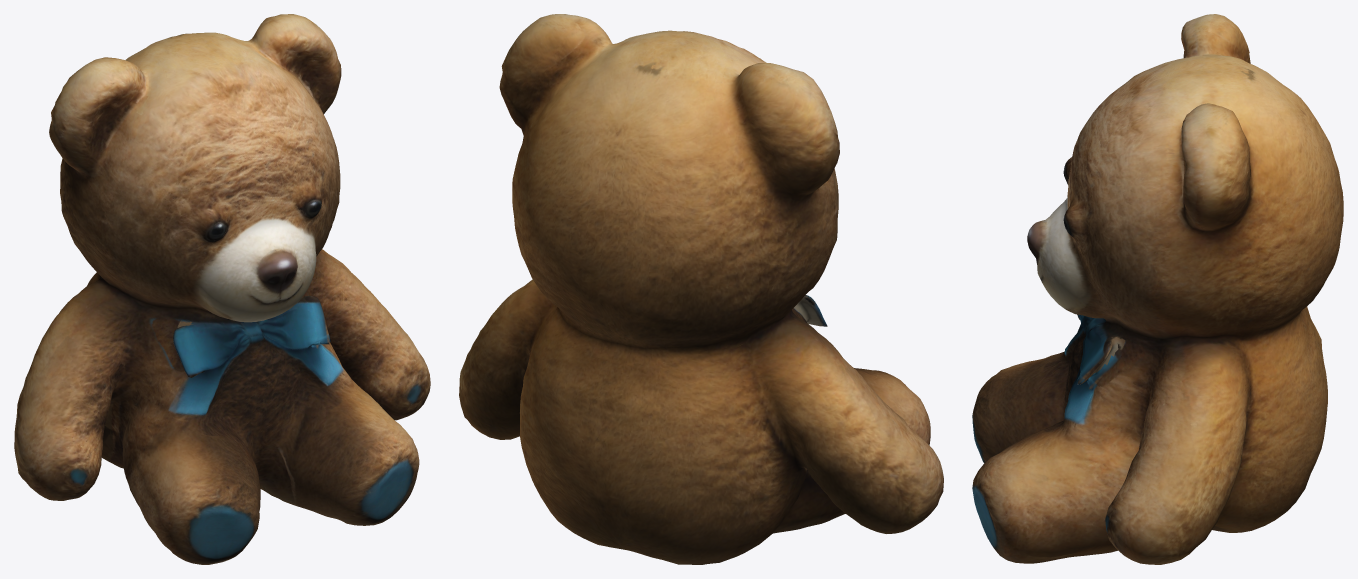
The model's file is teddy_bear_3d_model.glb.
3 renders of one model, left to right at view 1: azimuth 30°, elevation 25°; view 2: azimuth 150°, elevation 25°; view 3: azimuth 270°, elevation 25°, orthographic. The views are drawn at different scales.
Parts seen in each view (by area): view 1: Mesh1_Mesh1.054; view 2: Mesh1_Mesh1.054; view 3: Mesh1_Mesh1.054.
Boxes of the visible parts, left/top/right/bottom form: Mesh1_Mesh1.054: left=14, top=14, right=430, bottom=564; Mesh1_Mesh1.054: left=459, top=14, right=943, bottom=564; Mesh1_Mesh1.054: left=972, top=14, right=1343, bottom=564.
Size of the model in its own units: 1.88 by 1.97 by 1.46.
1 material, 1 textured.
